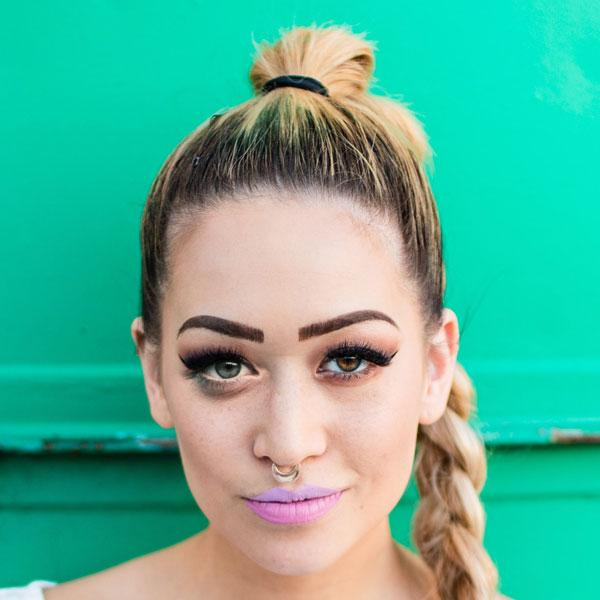Eyes: (298, 338, 401, 393), (177, 342, 265, 401)
